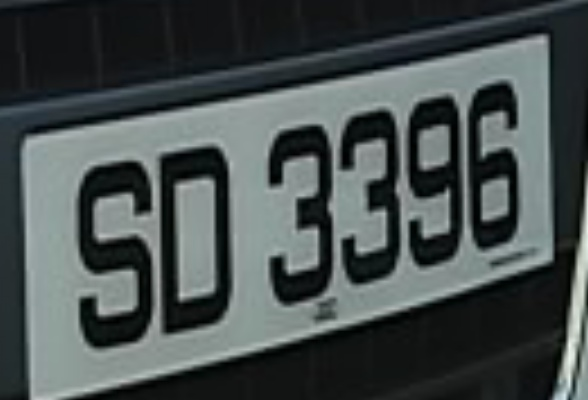3: (253, 118, 345, 317), (335, 107, 410, 302)
6: (461, 73, 530, 271)
9: (402, 87, 472, 283)
D: (151, 139, 241, 343)
S: (67, 148, 160, 358)
